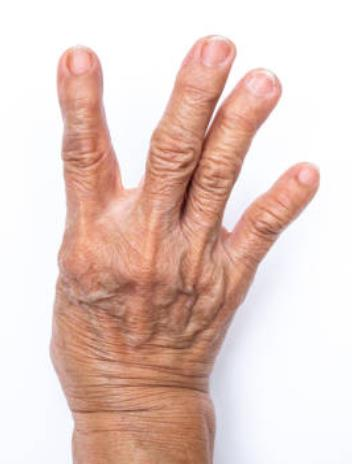right: (34, 29, 325, 382)
